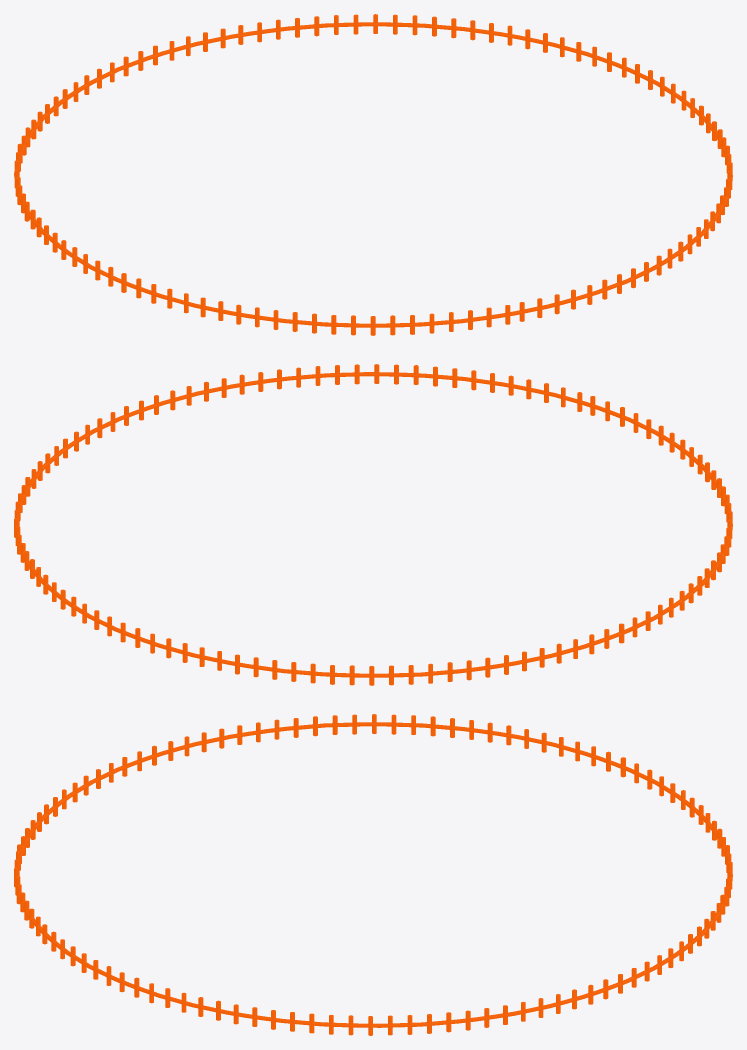
File: tet2.fbx
The picture shows the model from 3 angles, top to bottom: view 1: azimuth 30°, elevation 25°; view 2: azimuth 150°, elevation 25°; view 3: azimuth 270°, elevation 25°; orthographic projection.
Parts seen in each view (by area): view 1: Fence; view 2: Fence; view 3: Fence.
Part boxes in pixels (<box>): Fence: <box>14,14,732,335</box>; Fence: <box>14,364,732,685</box>; Fence: <box>14,714,732,1035</box>.
Size of the model in its own units: 5838 by 160 by 5837.
